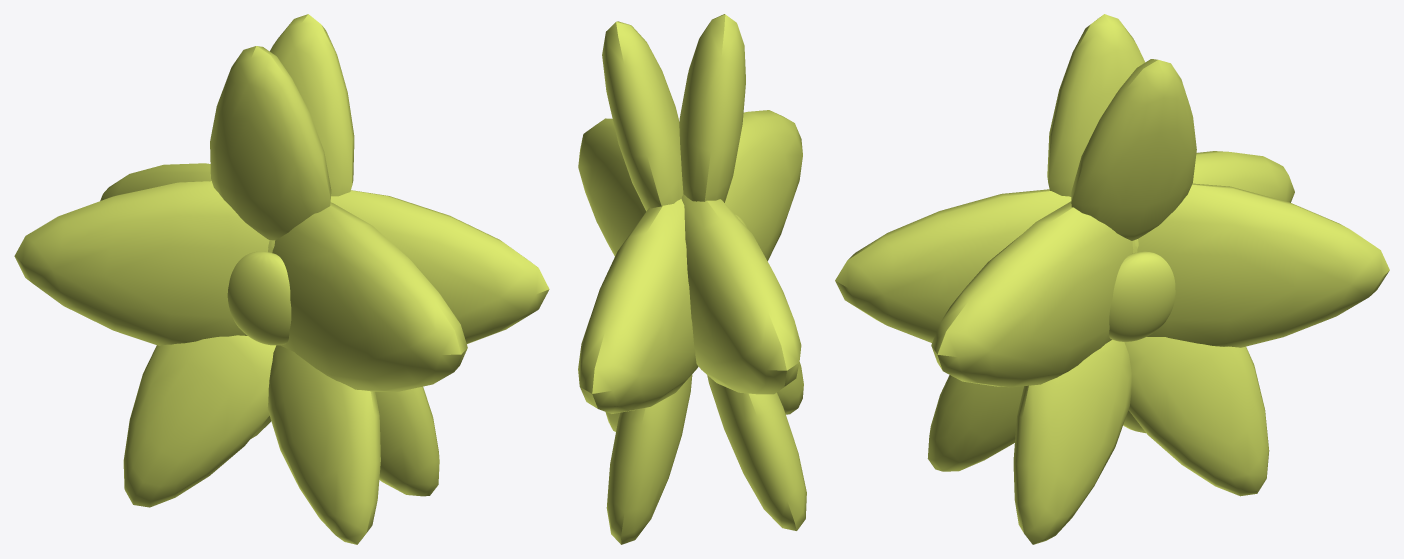
File: star.010.gltf
The picture shows the model from 3 angles, left to right: view 1: azimuth 30°, elevation 25°; view 2: azimuth 150°, elevation 25°; view 3: azimuth 270°, elevation 25°; orthographic projection. The views are drawn at different scales.
Visible parts, largest first — view 1: star.010; view 2: star.010; view 3: star.010.
Boxes of the visible parts, x1,y1,x2,y2 form: star.010: (14,14,549,544); star.010: (578,14,806,544); star.010: (835,14,1389,544).
Bounding box in the file's own units: 1.22 × 1.48 × 1.59.
